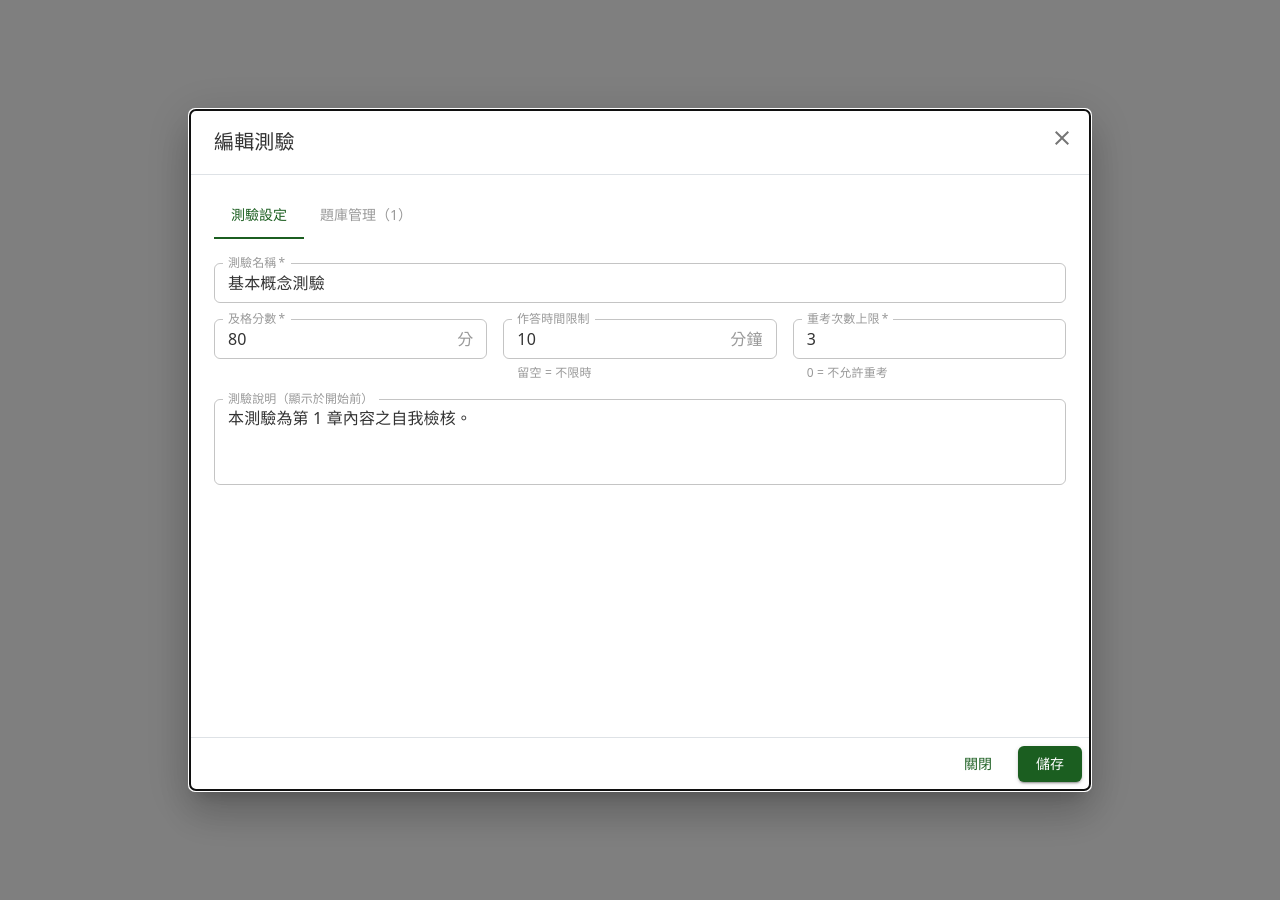
Test: 測驗編輯視窗 › 名稱留空按儲存時標記欄位而非籠統報錯
Clear the field showing "基本概念測驗" at {"x": 640, "y": 283}, box 214,263 -> 1066,303
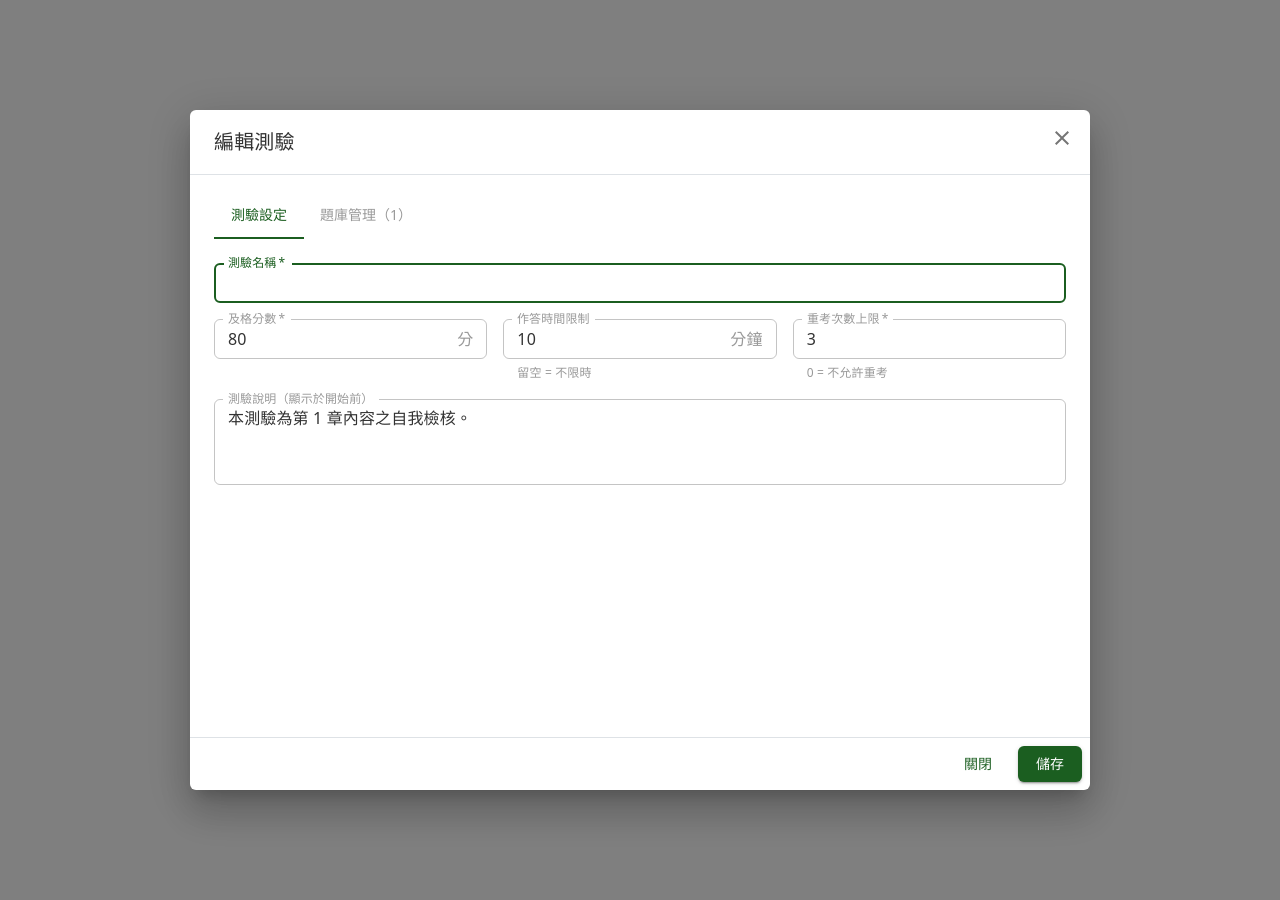
Click the button "儲存".
click(1050, 764)  # box 1018,746 -> 1082,782
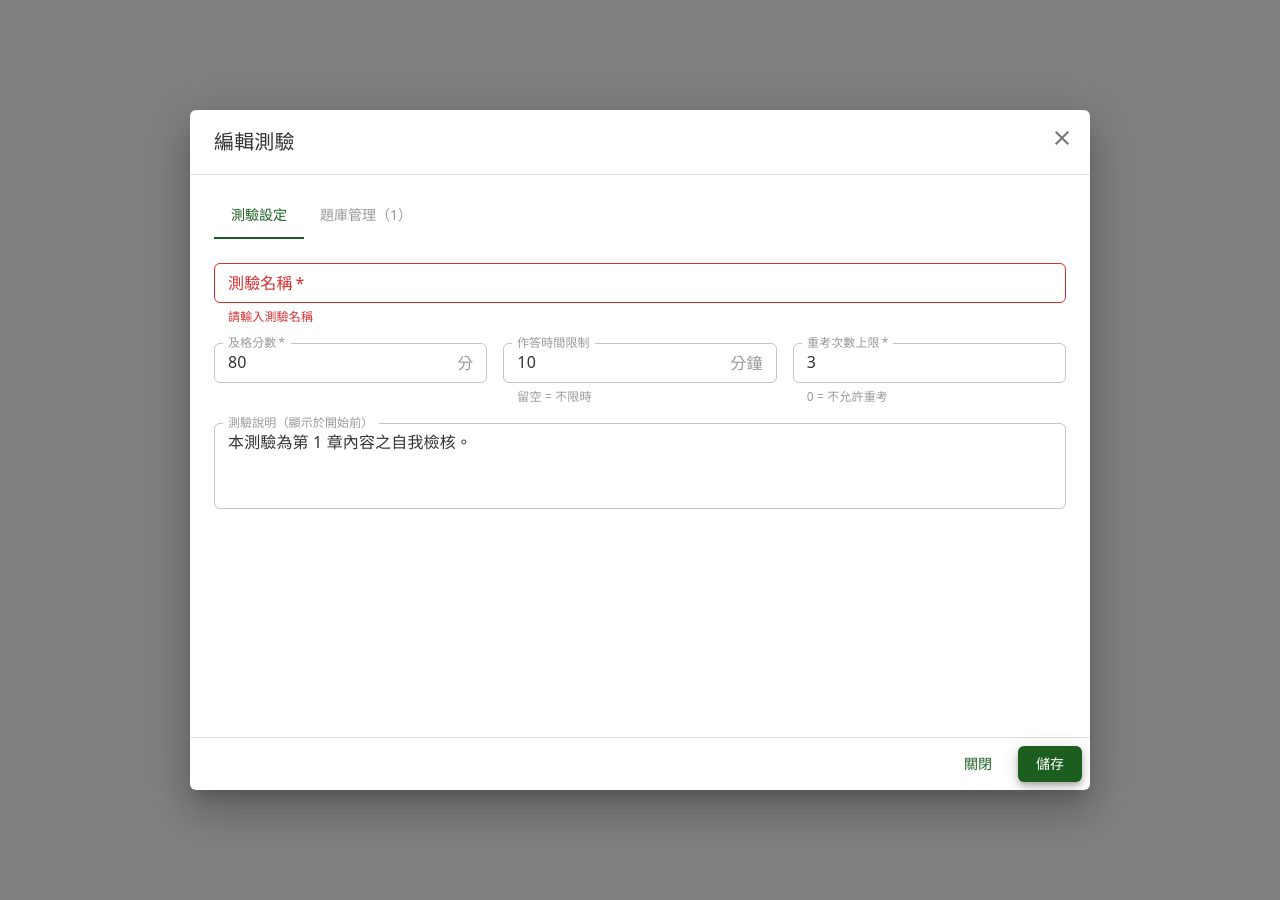
expect the text "請輸入測驗名稱" is shown: met, box 228,308 -> 313,325
